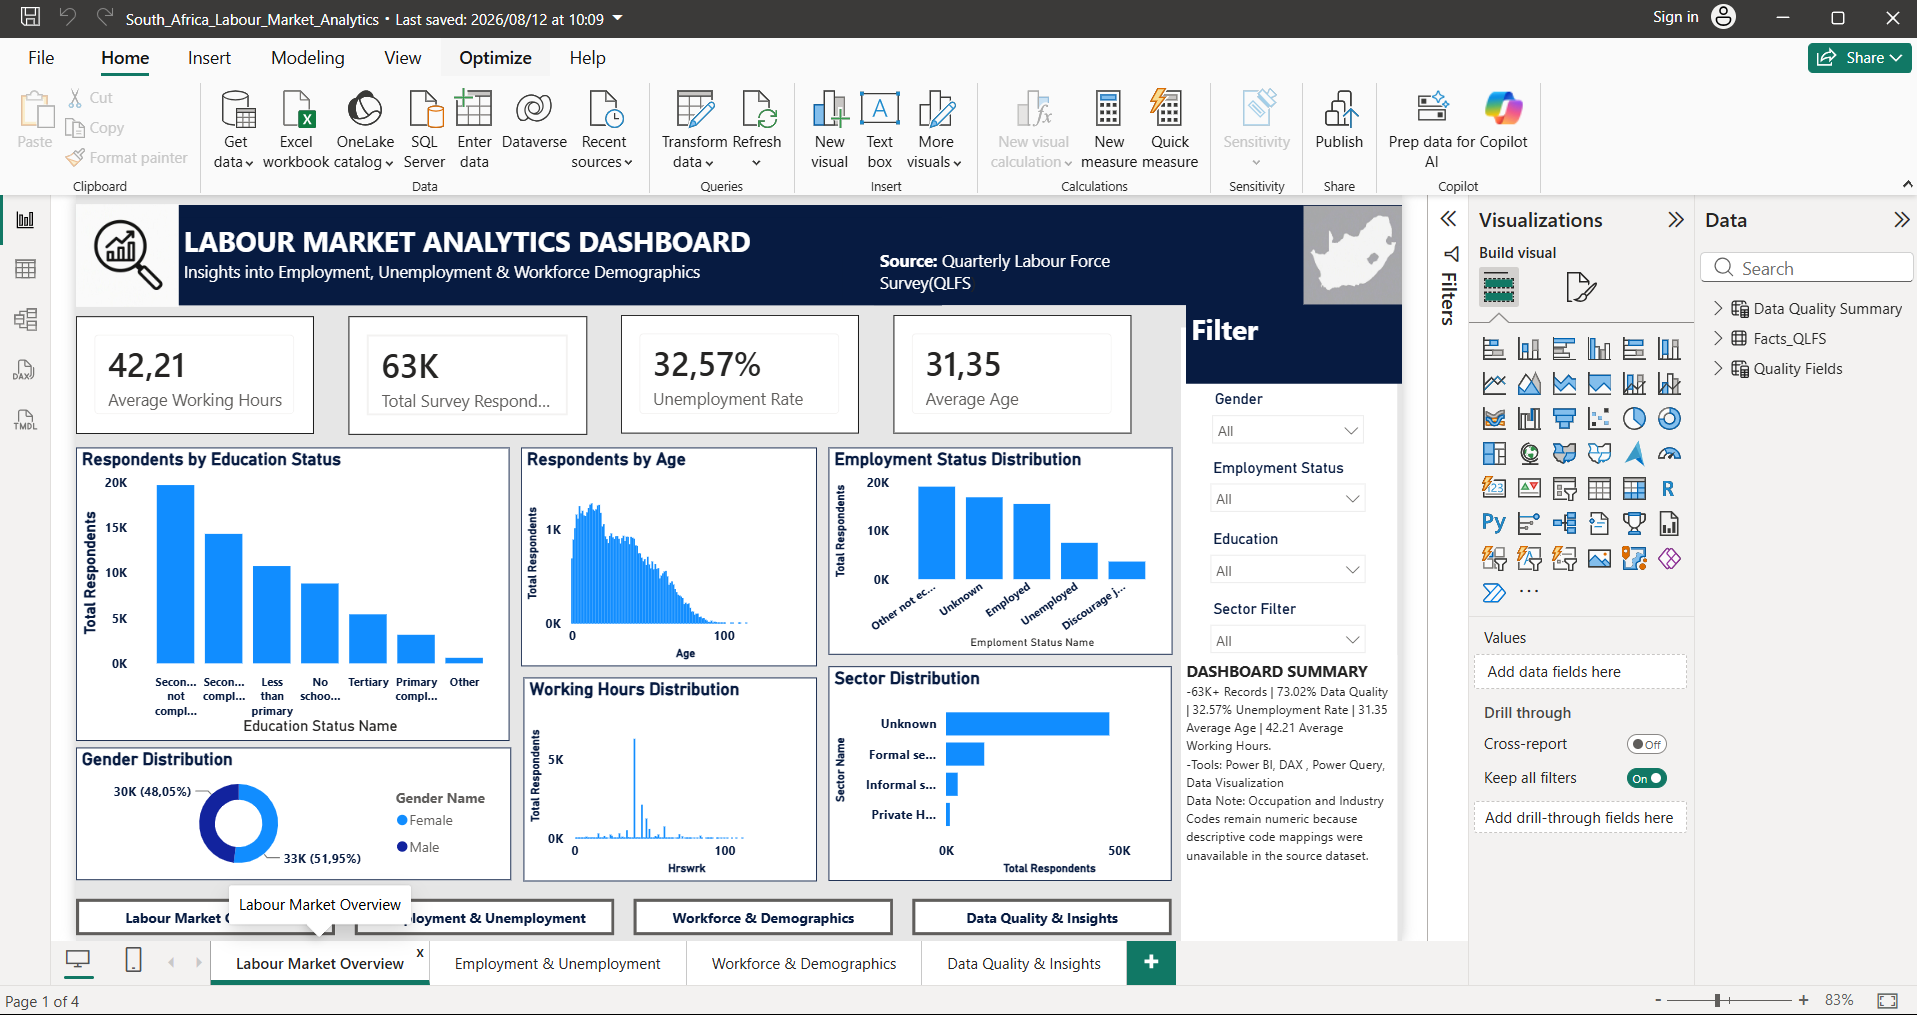

What the dashboard file says about the page in this screenshot:
{"tool":"powerbi","page":{"name":"Labour Market Overview","canvas":[1280,720],"ordinal":0},"visuals":[{"type":"cardVisual","fields":{"Data":["Facts_QLFS.Total Respondents"]},"box":[262.6,117,230.4,114.6],"z":0},{"type":"cardVisual","fields":{"Data":["Facts_QLFS.Average Age"]},"box":[789,115.8,229.2,114.6],"z":1000},{"type":"cardVisual","fields":{"Data":["Facts_QLFS.Average Working Hours"]},"box":[0,117,229.2,113.4],"z":2000},{"type":"donutChart","title":"Gender Distribution","fields":{"Y":["Facts_QLFS.Total Respondents"],"Category":["Facts_QLFS.Gender Name"]},"box":[0,533.8,419.7,128.2],"z":3000},{"type":"clusteredColumnChart","title":"Respondents by Age","fields":{"Y":["Facts_QLFS.Total Respondents"],"Category":["Facts_QLFS.Age"]},"box":[429.5,243.7,285.9,211.1],"z":4000},{"type":"clusteredColumnChart","title":"Respondents by Education Status","fields":{"Y":["Facts_QLFS.Total Respondents"],"Category":["Facts_QLFS.Education Status Name"]},"box":[0,243.7,418.6,283.5],"z":5000},{"type":"clusteredColumnChart","title":"Employment Status Distribution","fields":{"Y":["Facts_QLFS.Total Respondents"],"Category":["Facts_QLFS.Emploment Status Name"]},"box":[726.3,243.7,331.8,200.3],"z":6000},{"type":"clusteredColumnChart","title":"Working Hours Distribution","fields":{"Category":["Facts_QLFS.Hrswrk"],"Y":["Facts_QLFS.Total Respondents"]},"box":[431.9,465.7,283.5,196.6],"z":7000},{"type":"shape","box":[1066.5,127.9,208.7,592.4],"z":8000},{"type":"slicer","fields":{"Values":["Facts_QLFS.Gender Name"]},"box":[1084.8,182.2,170.1,70],"z":9000},{"type":"slicer","fields":{"Values":["Facts_QLFS.Education Status Name"]},"box":[1084.8,318.1,170.1,70],"z":10000},{"type":"slicer","fields":{"Values":["Facts_QLFS.Emploment Status Name"]},"box":[1084.8,250.1,170.1,70],"z":11000},{"type":"slicer","fields":{"Values":["Facts_QLFS.Sector Name"]},"box":[1084.8,386.1,170.1,70],"z":12000},{"type":"cardVisual","fields":{"Data":["Facts_QLFS.Unemployment Rate"]},"box":[526,115.8,229.2,114.6],"z":13000},{"type":"shape","box":[0,9.7,1280,96.5],"z":14000},{"type":"textbox","box":[98.9,21.7,737.1,84.5],"z":15000},{"type":"textbox","box":[98.8,57.6,640.8,48],"z":16000},{"type":"image","box":[0,0,98.9,117],"z":17000},{"type":"image","box":[1184.7,9.7,95.3,96.5],"z":18000},{"type":"textbox","box":[1071.3,106.2,208.7,76],"z":19000},{"type":"clusteredBarChart","title":"Sector Distribution","fields":{"Y":["Facts_QLFS.Total Respondents"],"Category":["Facts_QLFS.Sector Name"]},"box":[726.8,454.9,331,207],"z":20000},{"type":"actionButton","box":[0,678.9,250,35.2],"z":21000},{"type":"actionButton","box":[268.5,678.9,250.7,35.2],"z":22000},{"type":"actionButton","box":[537.8,678.9,250.7,35.2],"z":23000},{"type":"actionButton","box":[807,678.9,250.7,35.2],"z":24000},{"type":"textbox","box":[770.9,47.1,300.4,59.1],"z":25000},{"type":"textbox","box":[1066.5,444,208.7,276.3],"z":26000}]}

Visuals, with their boxes on the page's 1280x720 design canvas (x1, y1, x2, y2). These are canvas units, not pixel positions in the 1917x1015 screenshot, which may show the page scaled, cropped or inside an application window:
cardVisual - Facts_QLFS.Total Respondents: pyautogui.locateOnScreen(263, 117, 493, 232)
cardVisual - Facts_QLFS.Average Age: pyautogui.locateOnScreen(789, 116, 1018, 230)
cardVisual - Facts_QLFS.Average Working Hours: pyautogui.locateOnScreen(0, 117, 229, 230)
"Gender Distribution" donutChart: pyautogui.locateOnScreen(0, 534, 420, 662)
"Respondents by Age" clusteredColumnChart: pyautogui.locateOnScreen(430, 244, 715, 455)
"Respondents by Education Status" clusteredColumnChart: pyautogui.locateOnScreen(0, 244, 419, 527)
"Employment Status Distribution" clusteredColumnChart: pyautogui.locateOnScreen(726, 244, 1058, 444)
"Working Hours Distribution" clusteredColumnChart: pyautogui.locateOnScreen(432, 466, 715, 662)
shape: pyautogui.locateOnScreen(1066, 128, 1275, 720)
slicer - Facts_QLFS.Gender Name: pyautogui.locateOnScreen(1085, 182, 1255, 252)
slicer - Facts_QLFS.Education Status Name: pyautogui.locateOnScreen(1085, 318, 1255, 388)
slicer - Facts_QLFS.Emploment Status Name: pyautogui.locateOnScreen(1085, 250, 1255, 320)
slicer - Facts_QLFS.Sector Name: pyautogui.locateOnScreen(1085, 386, 1255, 456)
cardVisual - Facts_QLFS.Unemployment Rate: pyautogui.locateOnScreen(526, 116, 755, 230)
shape: pyautogui.locateOnScreen(0, 10, 1280, 106)
textbox: pyautogui.locateOnScreen(99, 22, 836, 106)
textbox: pyautogui.locateOnScreen(99, 58, 740, 106)
image: pyautogui.locateOnScreen(0, 0, 99, 117)
image: pyautogui.locateOnScreen(1185, 10, 1280, 106)
textbox: pyautogui.locateOnScreen(1071, 106, 1280, 182)
"Sector Distribution" clusteredBarChart: pyautogui.locateOnScreen(727, 455, 1058, 662)
actionButton: pyautogui.locateOnScreen(0, 679, 250, 714)
actionButton: pyautogui.locateOnScreen(268, 679, 519, 714)
actionButton: pyautogui.locateOnScreen(538, 679, 788, 714)
actionButton: pyautogui.locateOnScreen(807, 679, 1058, 714)
textbox: pyautogui.locateOnScreen(771, 47, 1071, 106)
textbox: pyautogui.locateOnScreen(1066, 444, 1275, 720)
